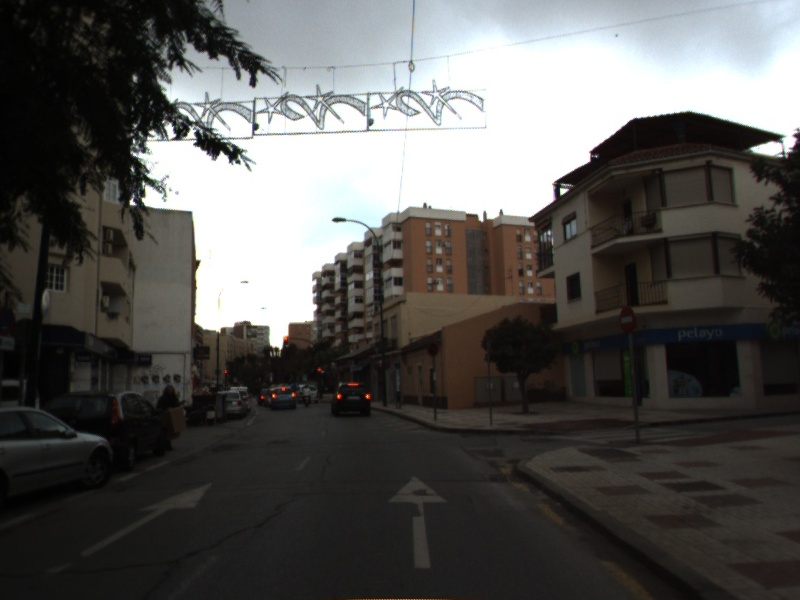STRAIGHT: (78, 478, 217, 560), (385, 471, 453, 572)
